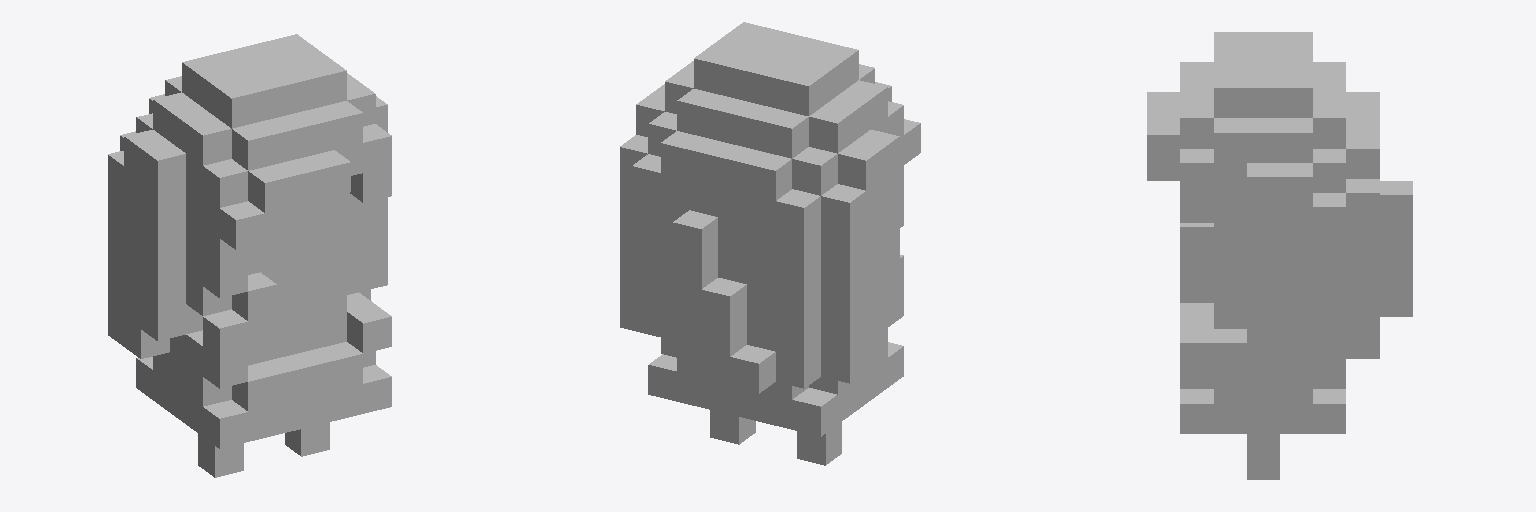
Rendered from Pessoa 3.obj.
The picture shows the model from 3 angles: view 1: azimuth 30°, elevation 25°; view 2: azimuth 150°, elevation 25°; view 3: azimuth 270°, elevation 25°; orthographic projection.
Visible parts, largest first — view 1: Pessoa 3; view 2: Pessoa 3; view 3: Pessoa 3.
Part boxes in pixels (x1,y1,x2,y2): Pessoa 3: (108, 34, 391, 477); Pessoa 3: (620, 22, 920, 465); Pessoa 3: (1147, 32, 1412, 479).
Size of the model in its own units: 8 by 13 by 8.